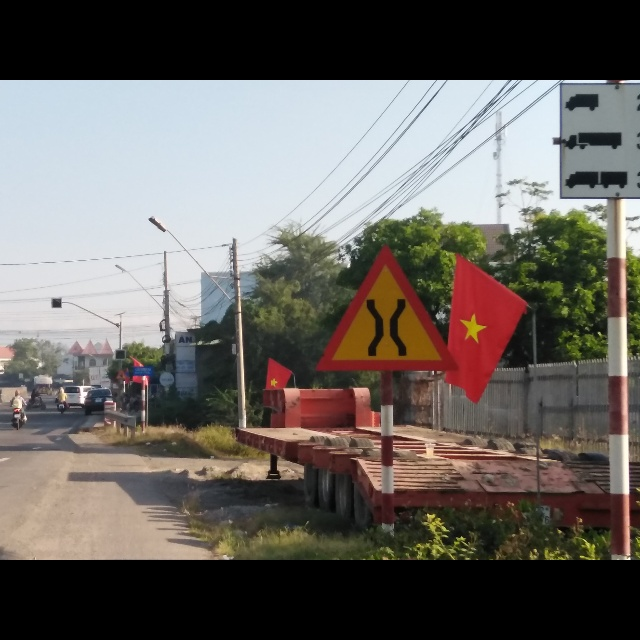Cầu hẹp: (310, 235, 457, 371)
